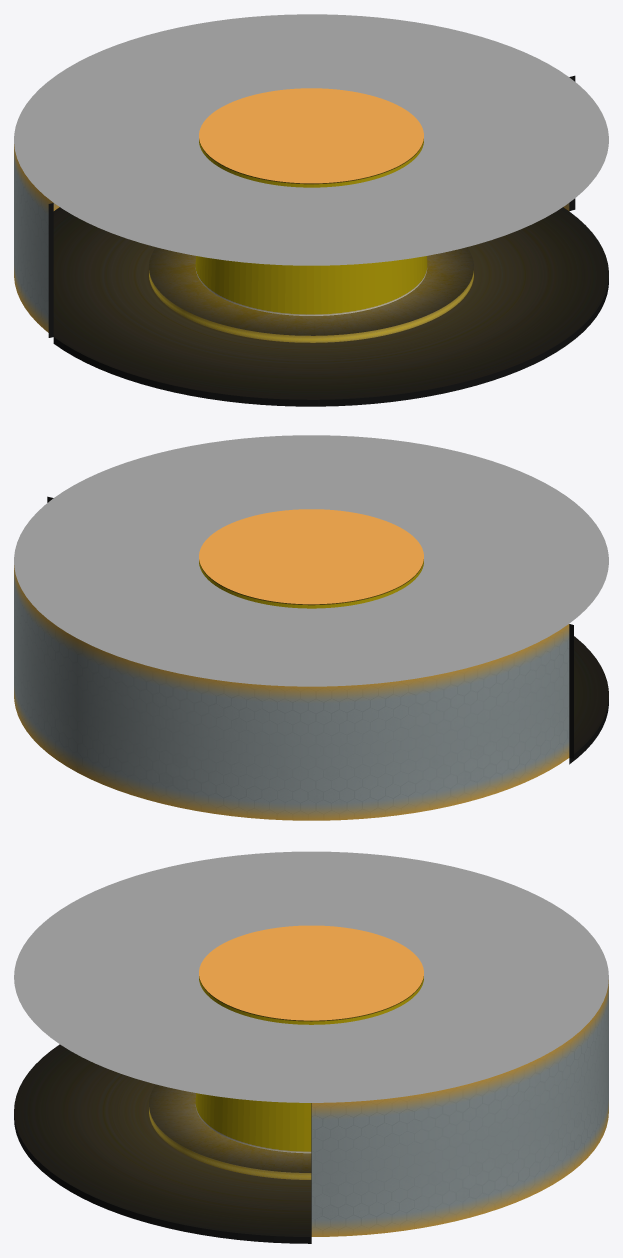
File: stage3.fbx
The picture shows the model from 3 angles, top to bottom: view 1: azimuth 30°, elevation 25°; view 2: azimuth 150°, elevation 25°; view 3: azimuth 270°, elevation 25°; orthographic projection.
Parts seen in each view (by area): view 1: floor_ceiling, platform, beam1, wallBG; view 2: floor_ceiling, wallBG, beam1; view 3: floor_ceiling, wallBG, platform, beam1.
Part boxes in pixels (left/top/right/bottom): floor_ceiling: left=14, top=14, right=608, bottom=406; platform: left=149, top=247, right=473, bottom=342; beam1: left=195, top=139, right=427, bottom=315; wallBG: left=14, top=144, right=569, bottom=332; floor_ceiling: left=14, top=435, right=608, bottom=764; wallBG: left=14, top=565, right=569, bottom=820; beam1: left=199, top=560, right=423, bottom=608; floor_ceiling: left=14, top=851, right=608, bottom=1243; wallBG: left=311, top=980, right=608, bottom=1236; platform: left=149, top=1084, right=311, bottom=1179; beam1: left=195, top=977, right=423, bottom=1153.
Bounding box in the file's own units: 29.8 × 7.85 × 29.17.
Materials: 7 (3 with a texture image).
